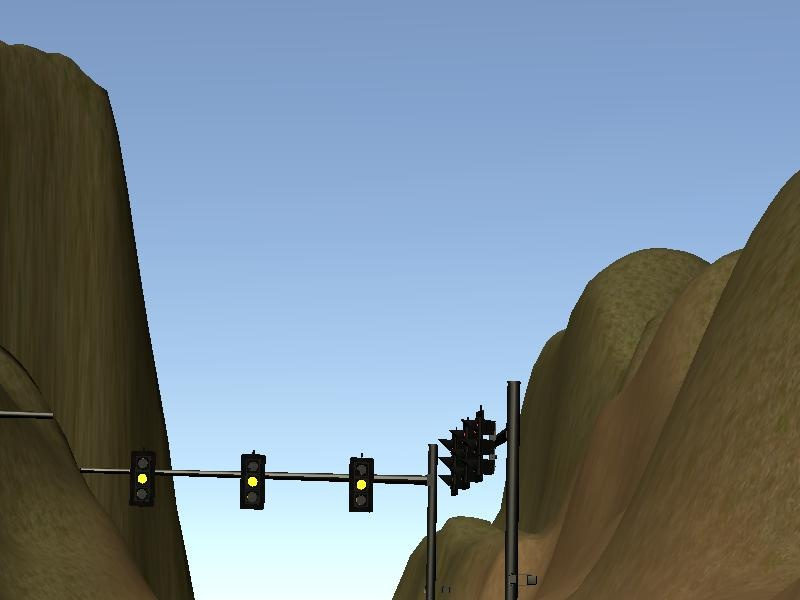yellow: (235, 443, 269, 515), (126, 444, 161, 512), (344, 450, 377, 516)
